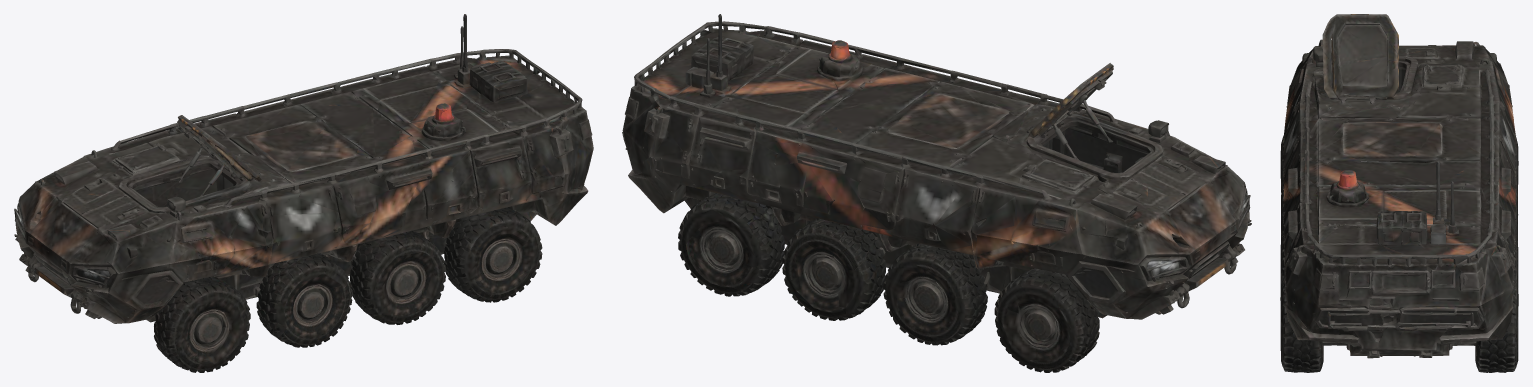
The model's file is apc.glb.
3 views of the same model, side by side, from view 1: azimuth 30°, elevation 25°; view 2: azimuth 150°, elevation 25°; view 3: azimuth 270°, elevation 25° (orthographic). The views are drawn at different scales.
Visible parts, largest first — view 1: output_unwrapped; view 2: output_unwrapped; view 3: output_unwrapped.
Part boxes in pixels (x1,y1,x2,y2): output_unwrapped: (14, 14, 593, 372); output_unwrapped: (622, 14, 1251, 372); output_unwrapped: (1280, 14, 1518, 372).
Size of the model in its own units: 1.9 by 0.7894 by 0.7546.
1 material, 1 textured.
